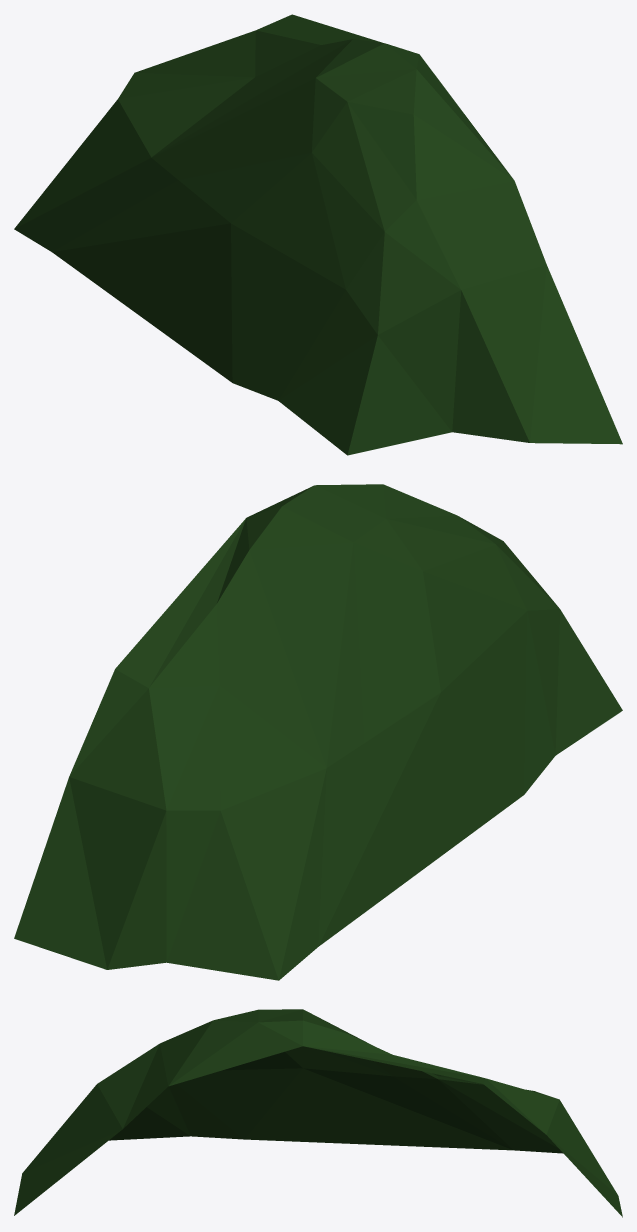
Rendered from backgroundHill02.fbx.
3 views of the same model, one above another, from view 1: azimuth 30°, elevation 25°; view 2: azimuth 150°, elevation 25°; view 3: azimuth 270°, elevation 25° (orthographic). The views are drawn at different scales.
Parts seen in each view (by area): view 1: Plane001; view 2: Plane001; view 3: Plane001.
Boxes of the visible parts, box(x1,y1,x2,y2) form: Plane001: box(14, 14, 622, 455); Plane001: box(14, 484, 622, 980); Plane001: box(14, 1009, 622, 1217).
Bounding box in the file's own units: 1626 × 5311 × 1894.
